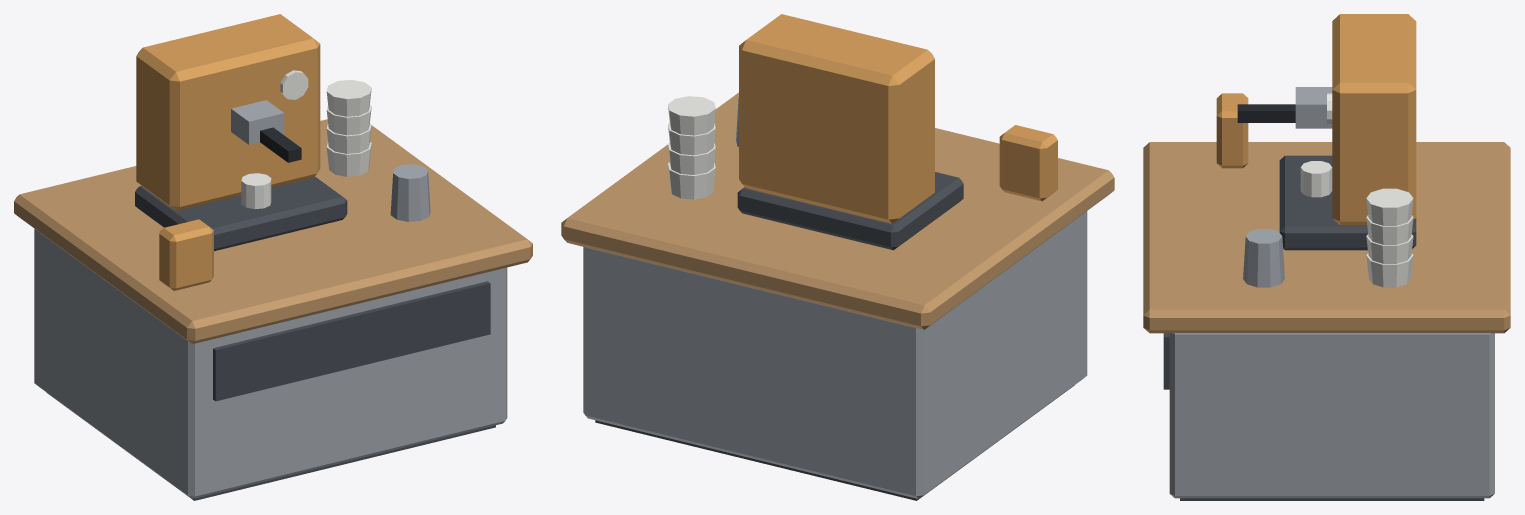
File: coffee_p0_3.glb
3 views of the same model, side by side, from view 1: azimuth 30°, elevation 25°; view 2: azimuth 150°, elevation 25°; view 3: azimuth 270°, elevation 25° (orthographic). The views are drawn at different scales.
Visible parts, largest first — view 1: coffee_p0_3_mesh_Desk, coffee_p0_3_mesh; view 2: coffee_p0_3_mesh_Desk, coffee_p0_3_mesh; view 3: coffee_p0_3_mesh_Desk, coffee_p0_3_mesh.
Boxes of the visible parts, x1,y1,x2,y2 form: coffee_p0_3_mesh_Desk: (14, 119, 532, 500); coffee_p0_3_mesh: (135, 14, 430, 290); coffee_p0_3_mesh_Desk: (561, 92, 1114, 500); coffee_p0_3_mesh: (668, 14, 1057, 250); coffee_p0_3_mesh_Desk: (1143, 142, 1510, 500); coffee_p0_3_mesh: (1216, 14, 1416, 287).
Bounding box in the file's own units: 0.78 × 0.77 × 0.7.
